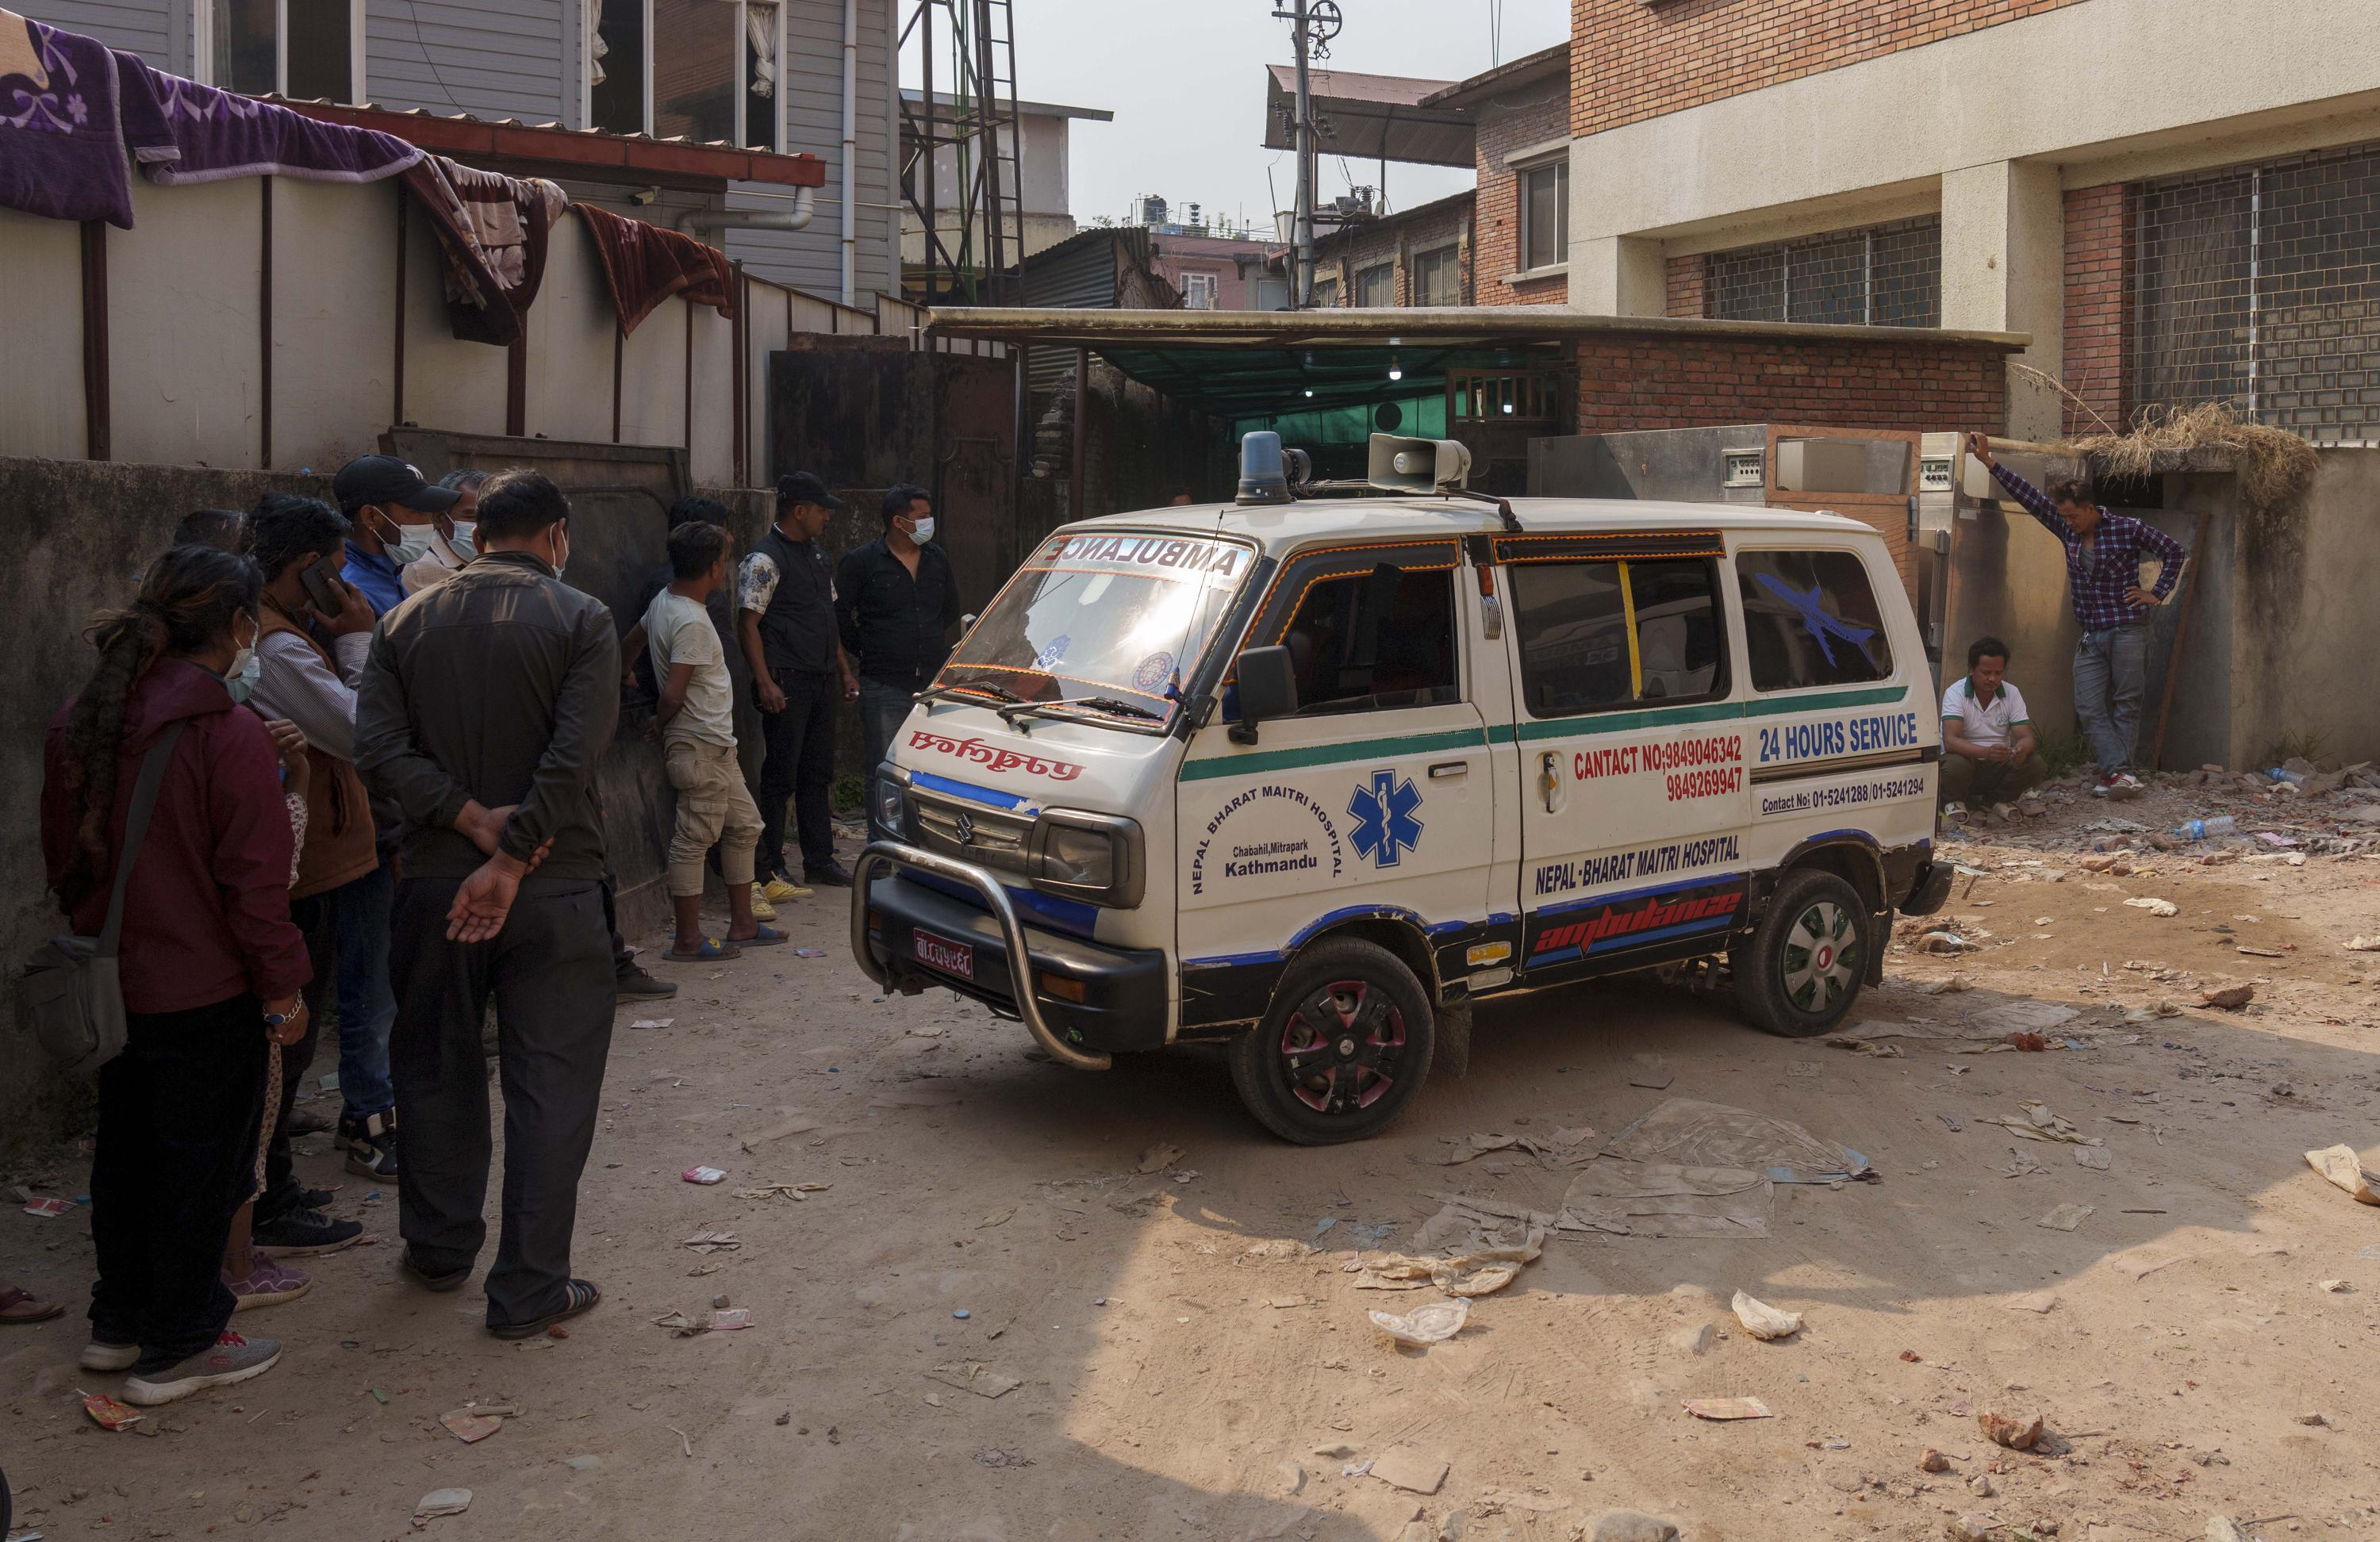ambulance: (831, 420, 1953, 1160)
